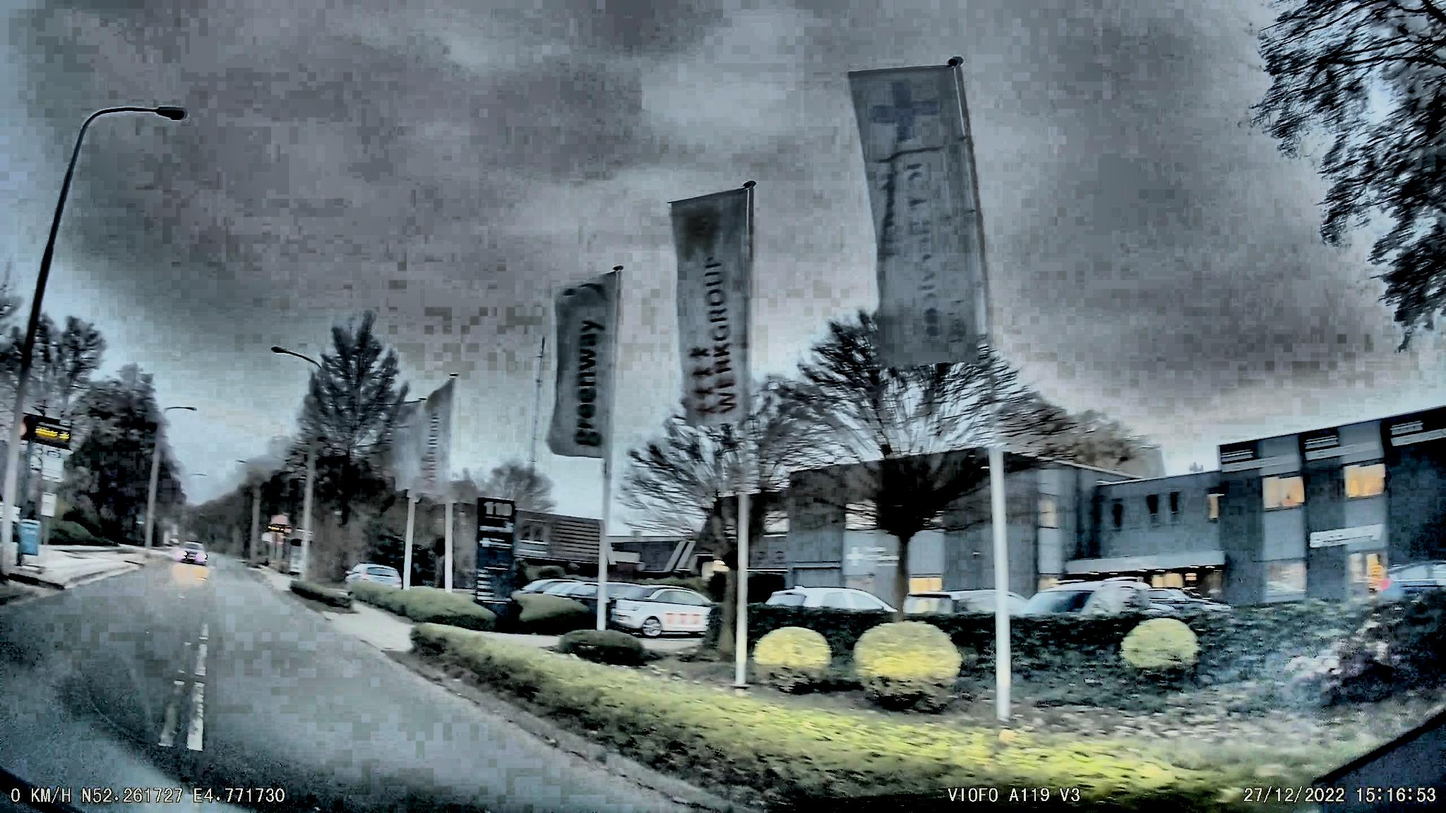Roads: (0, 553, 790, 813)
